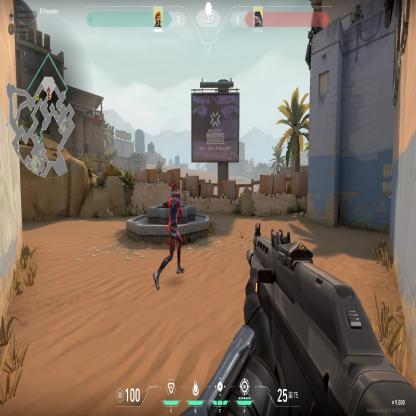enemy: (152, 177, 186, 296)
